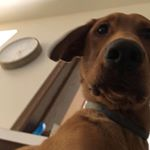puppy: (37, 7, 150, 148)
